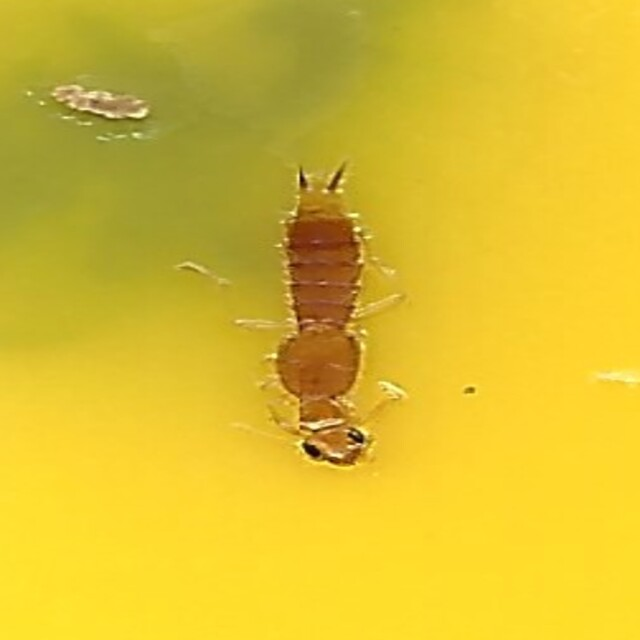Coleoptera: (254, 167, 386, 473)
